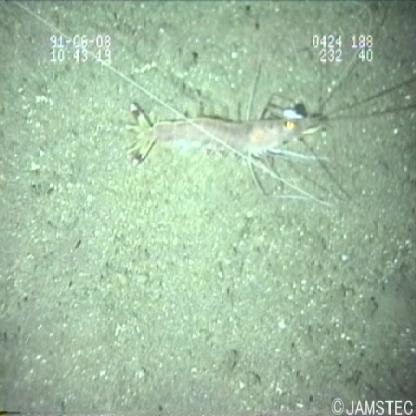Bio: (124, 1, 377, 212)
